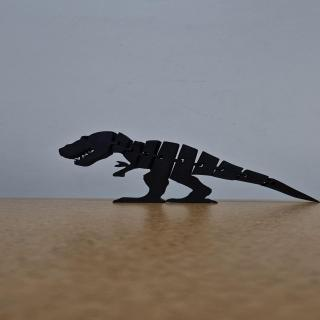dino: (58, 130, 320, 203)
